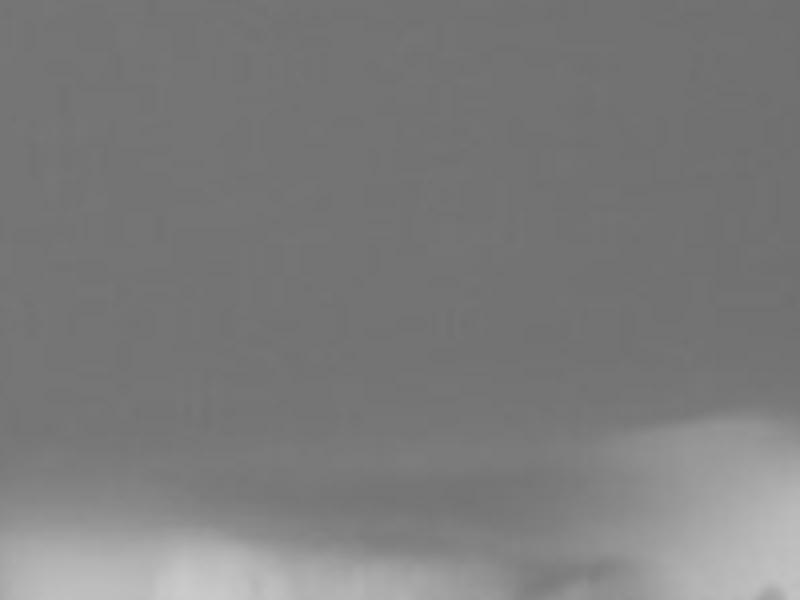defect: (756, 584, 782, 600)
